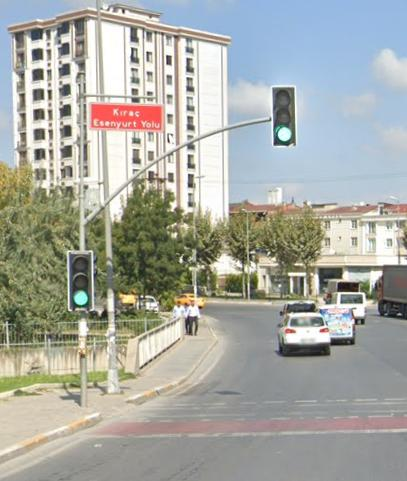greenlight: (272, 87, 295, 146), (70, 251, 92, 310)
